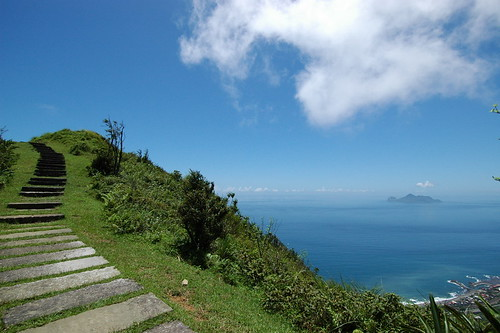turtleIslandLeft: (382, 191, 443, 206)
